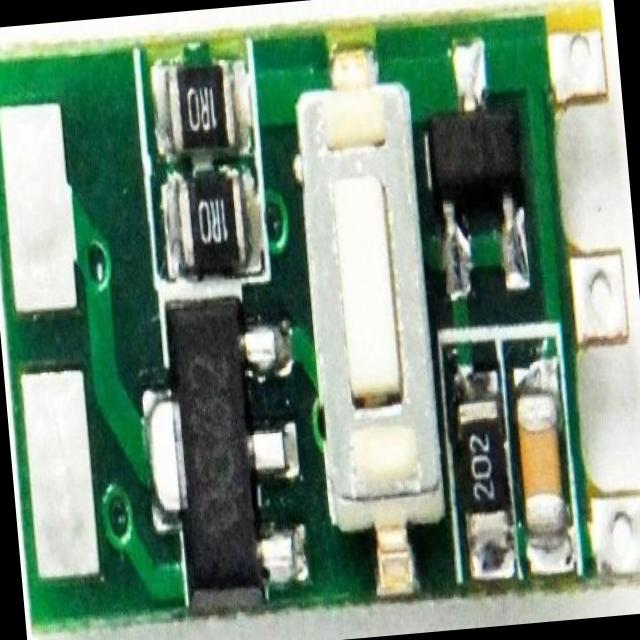IC: (151, 282, 293, 599)
capacitor: (514, 393, 564, 522)
resistor: (454, 376, 511, 573), (162, 52, 237, 160), (172, 178, 245, 265)
transistor: (422, 69, 532, 274)
